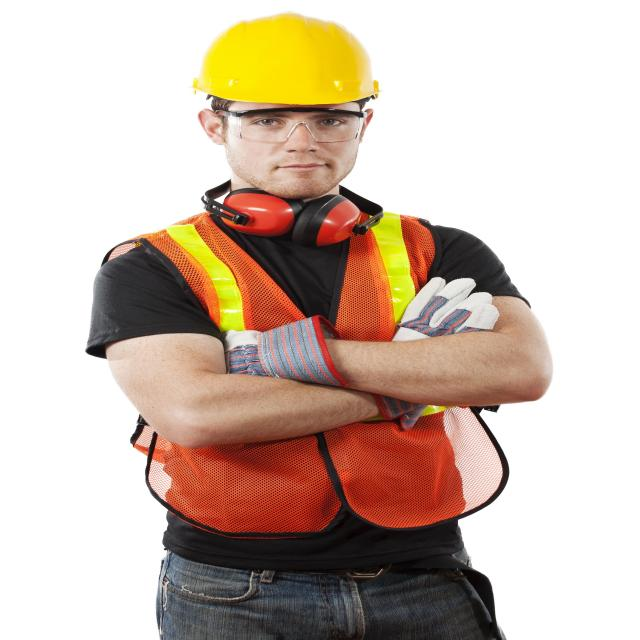Reflective-Jacket: (127, 205, 498, 530)
Safety-Helmet: (187, 10, 380, 108)
